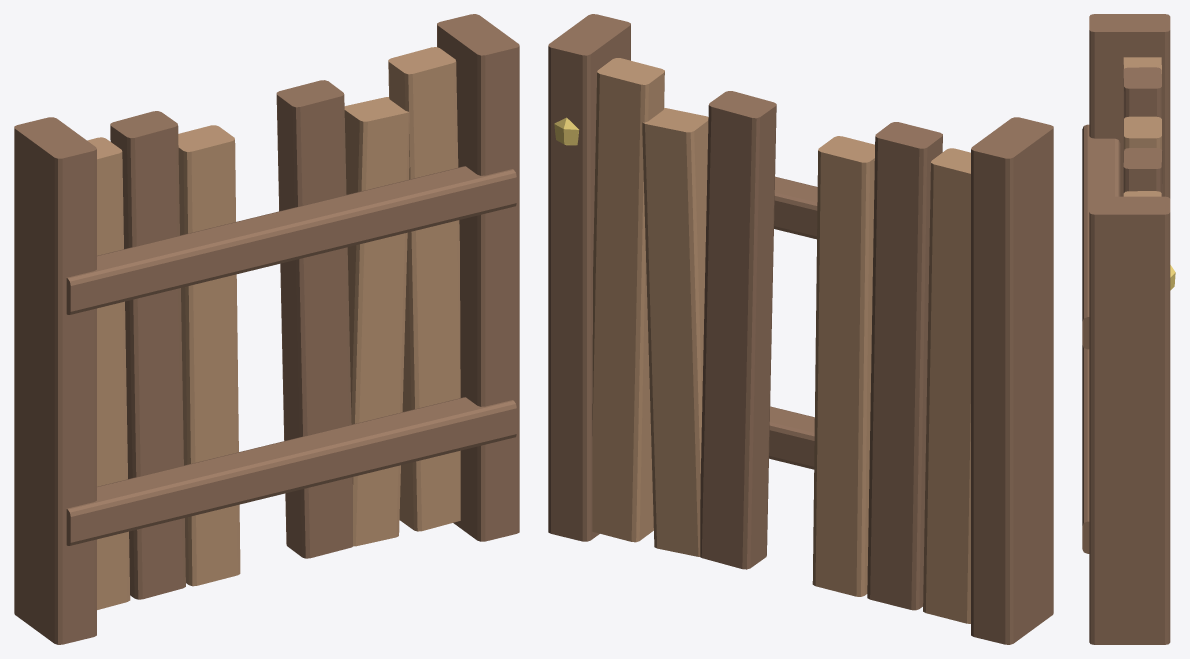
Rendered from Kit_AlleyFence.fbx.
3 views of the same model, side by side, from view 1: azimuth 30°, elevation 25°; view 2: azimuth 150°, elevation 25°; view 3: azimuth 270°, elevation 25° (orthographic). The views are drawn at different scales.
Parts seen in each view (by area): view 1: Kit_AlleyFence; view 2: Kit_AlleyFence; view 3: Kit_AlleyFence.
Part boxes in pixels (x1,y1,x2,y2): Kit_AlleyFence: (14, 14, 519, 644); Kit_AlleyFence: (548, 14, 1053, 644); Kit_AlleyFence: (1082, 14, 1175, 644).
Size of the model in its own units: 2 by 2 by 0.393.
